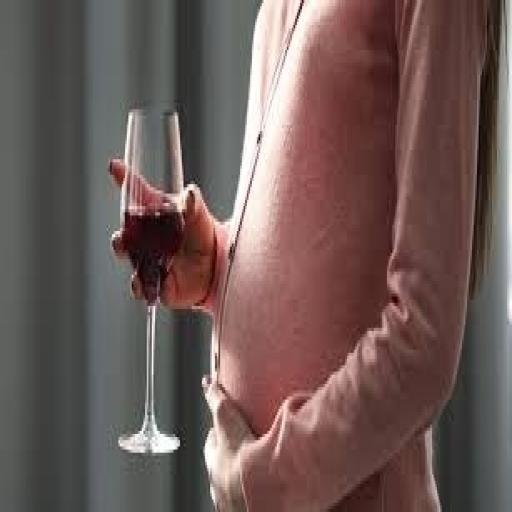drinking: (115, 103, 185, 456)
